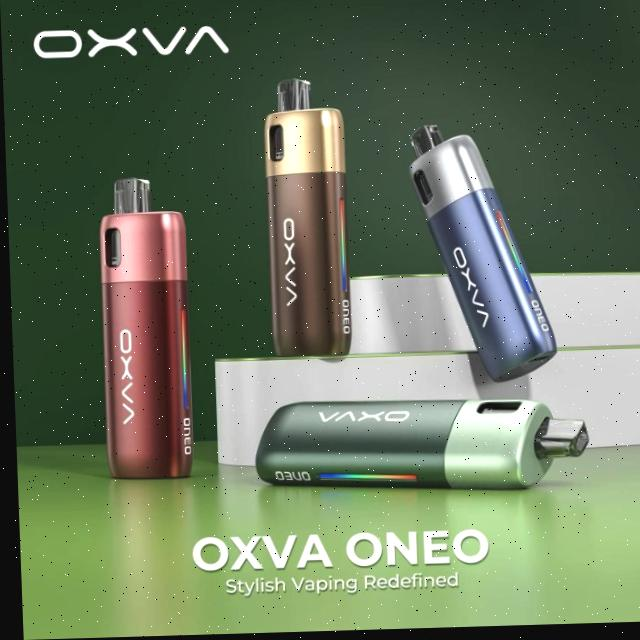vape: (404, 123, 556, 389), (250, 396, 589, 499), (95, 177, 193, 481), (260, 78, 351, 360)
